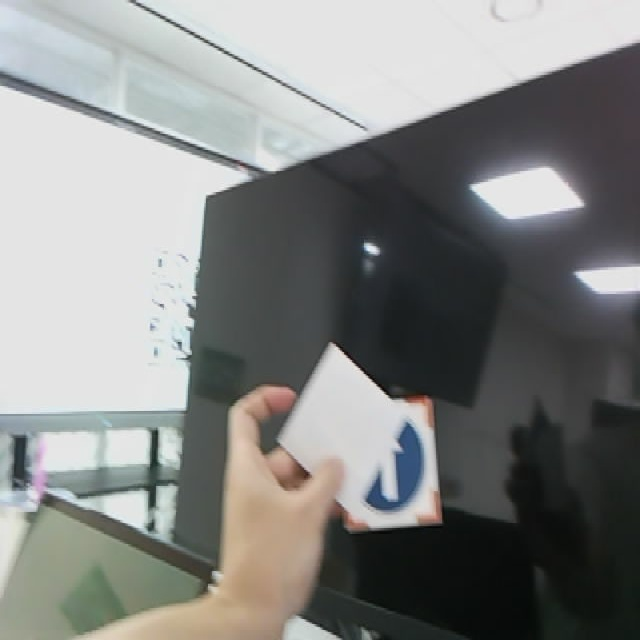strait: (339, 395, 442, 535)
